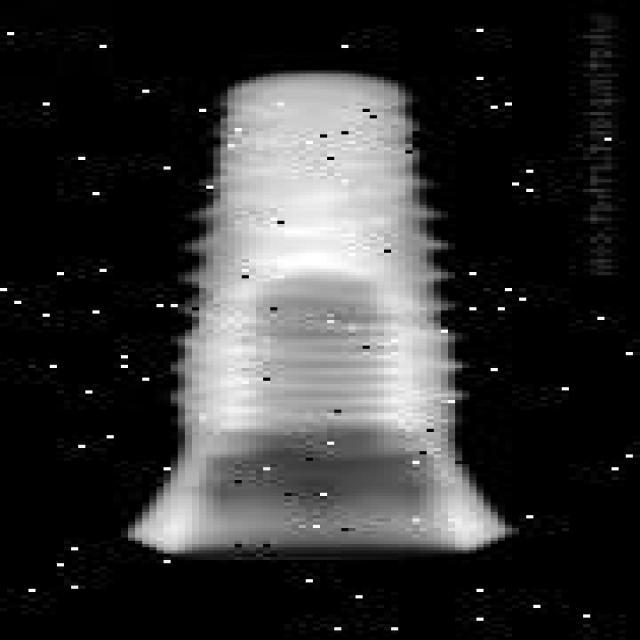Titan Implant Implant: (121, 67, 512, 557)
